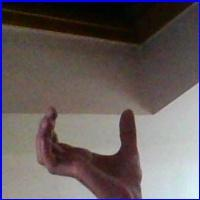space: (26, 99, 157, 192)
